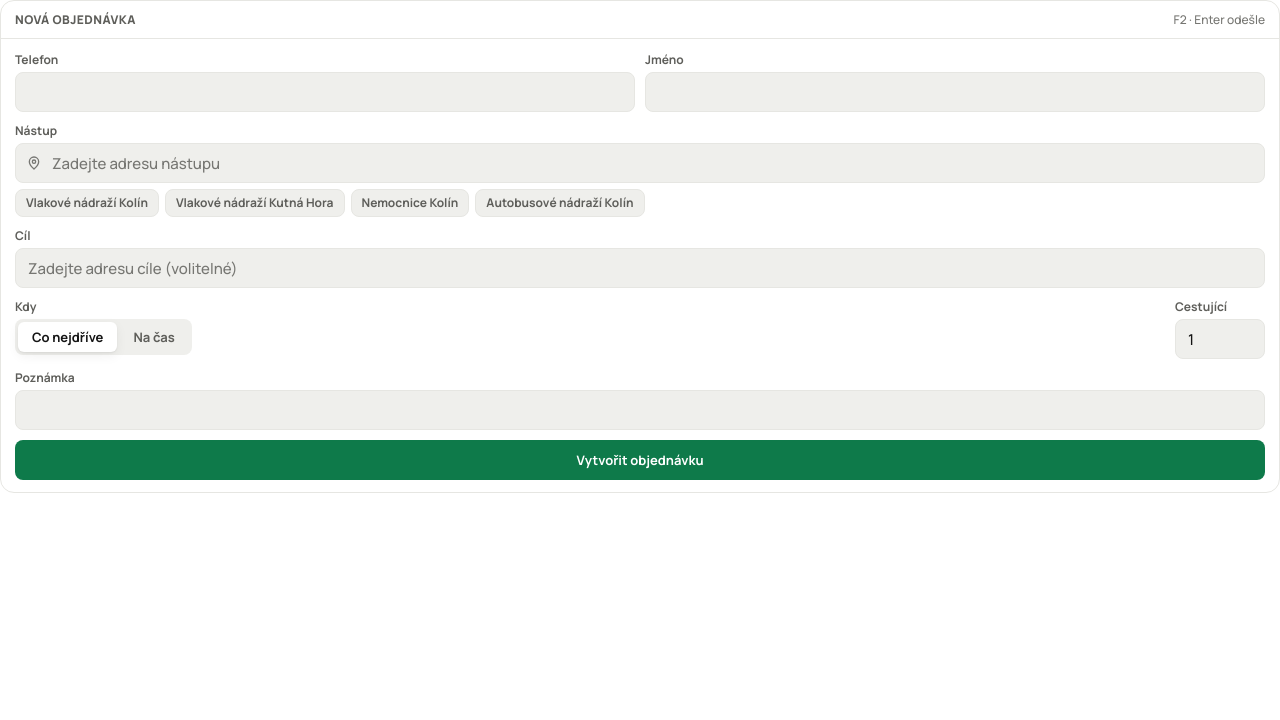
Test: OrderForm — Enter key submit › shows validation errors when Enter is pressed with an empty form
Click the field labelled "Telefon" at (325, 92), box [26,73,624,111]
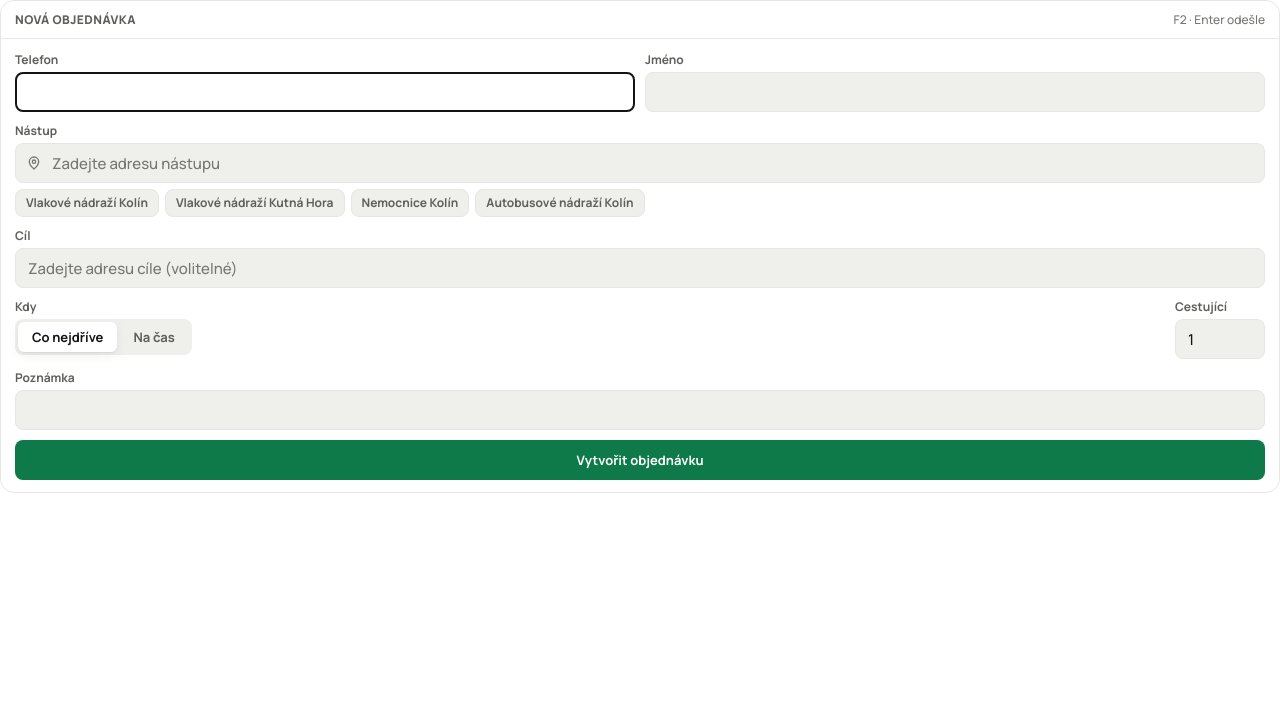
# Trigger Enter via fireEvent to avoid userEvent timer issues
Press Enter in the field labelled "Telefon", box [27,74,623,110]
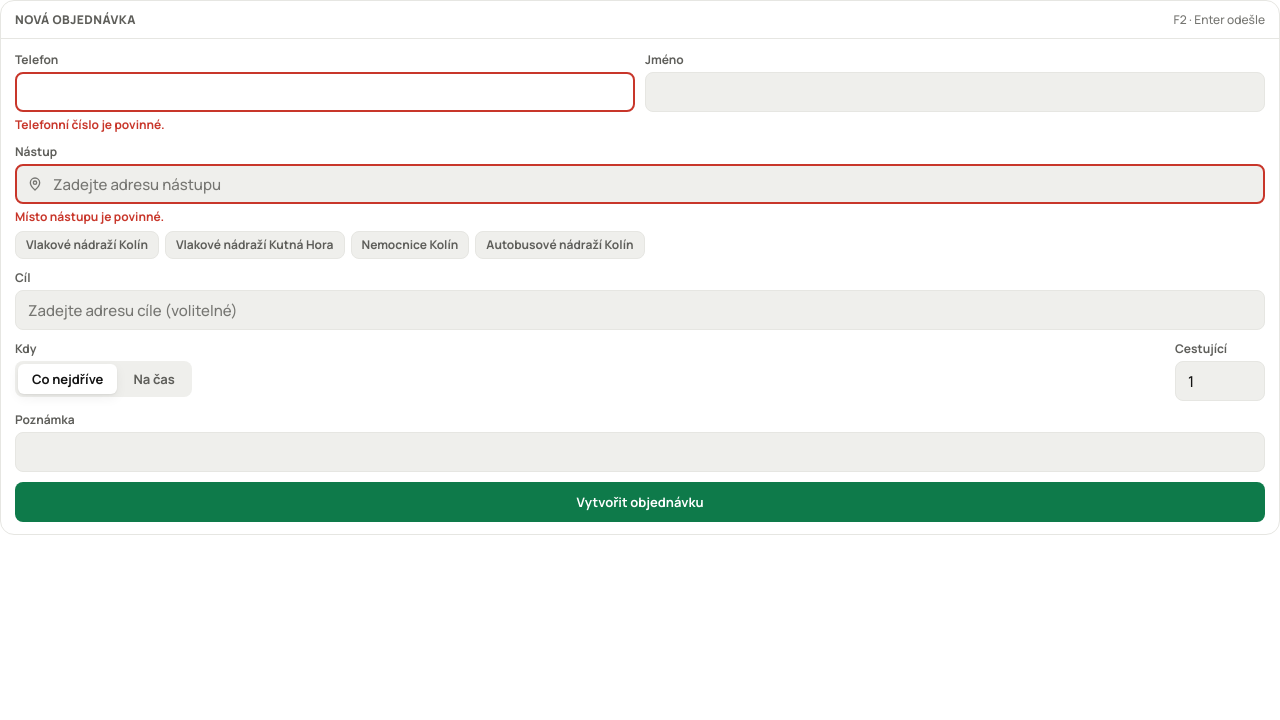
Result: the text "Telefonní číslo je povinné." is shown at [15,116,165,133]
